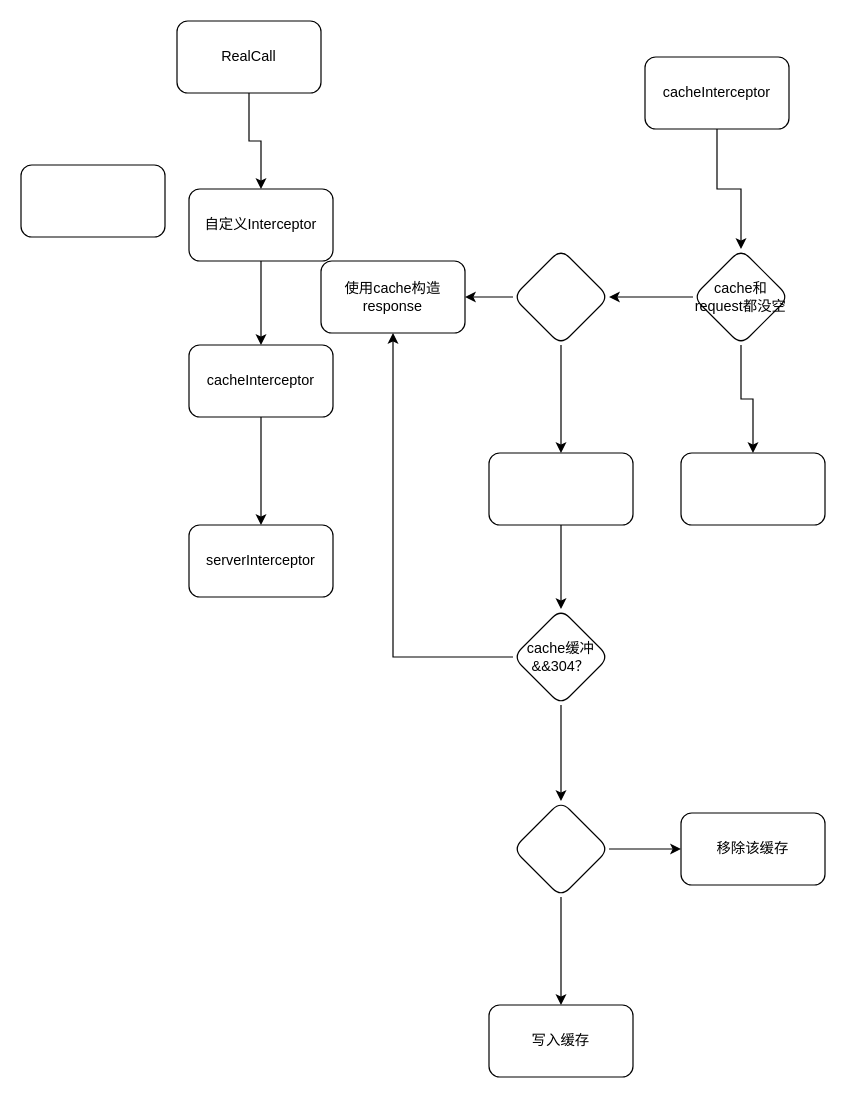
The diagram is 846 pixels wide and 1098 high, and some of its shapes have lost their labels. Each missing label, with the centre of its shape:
"Cache" goes at (x=92, y=200).
"request为空" goes at (x=560, y=296).
"response可缓存" goes at (x=560, y=848).
"发起请求" goes at (x=560, y=488).
"结束返回504" goes at (x=752, y=488).
